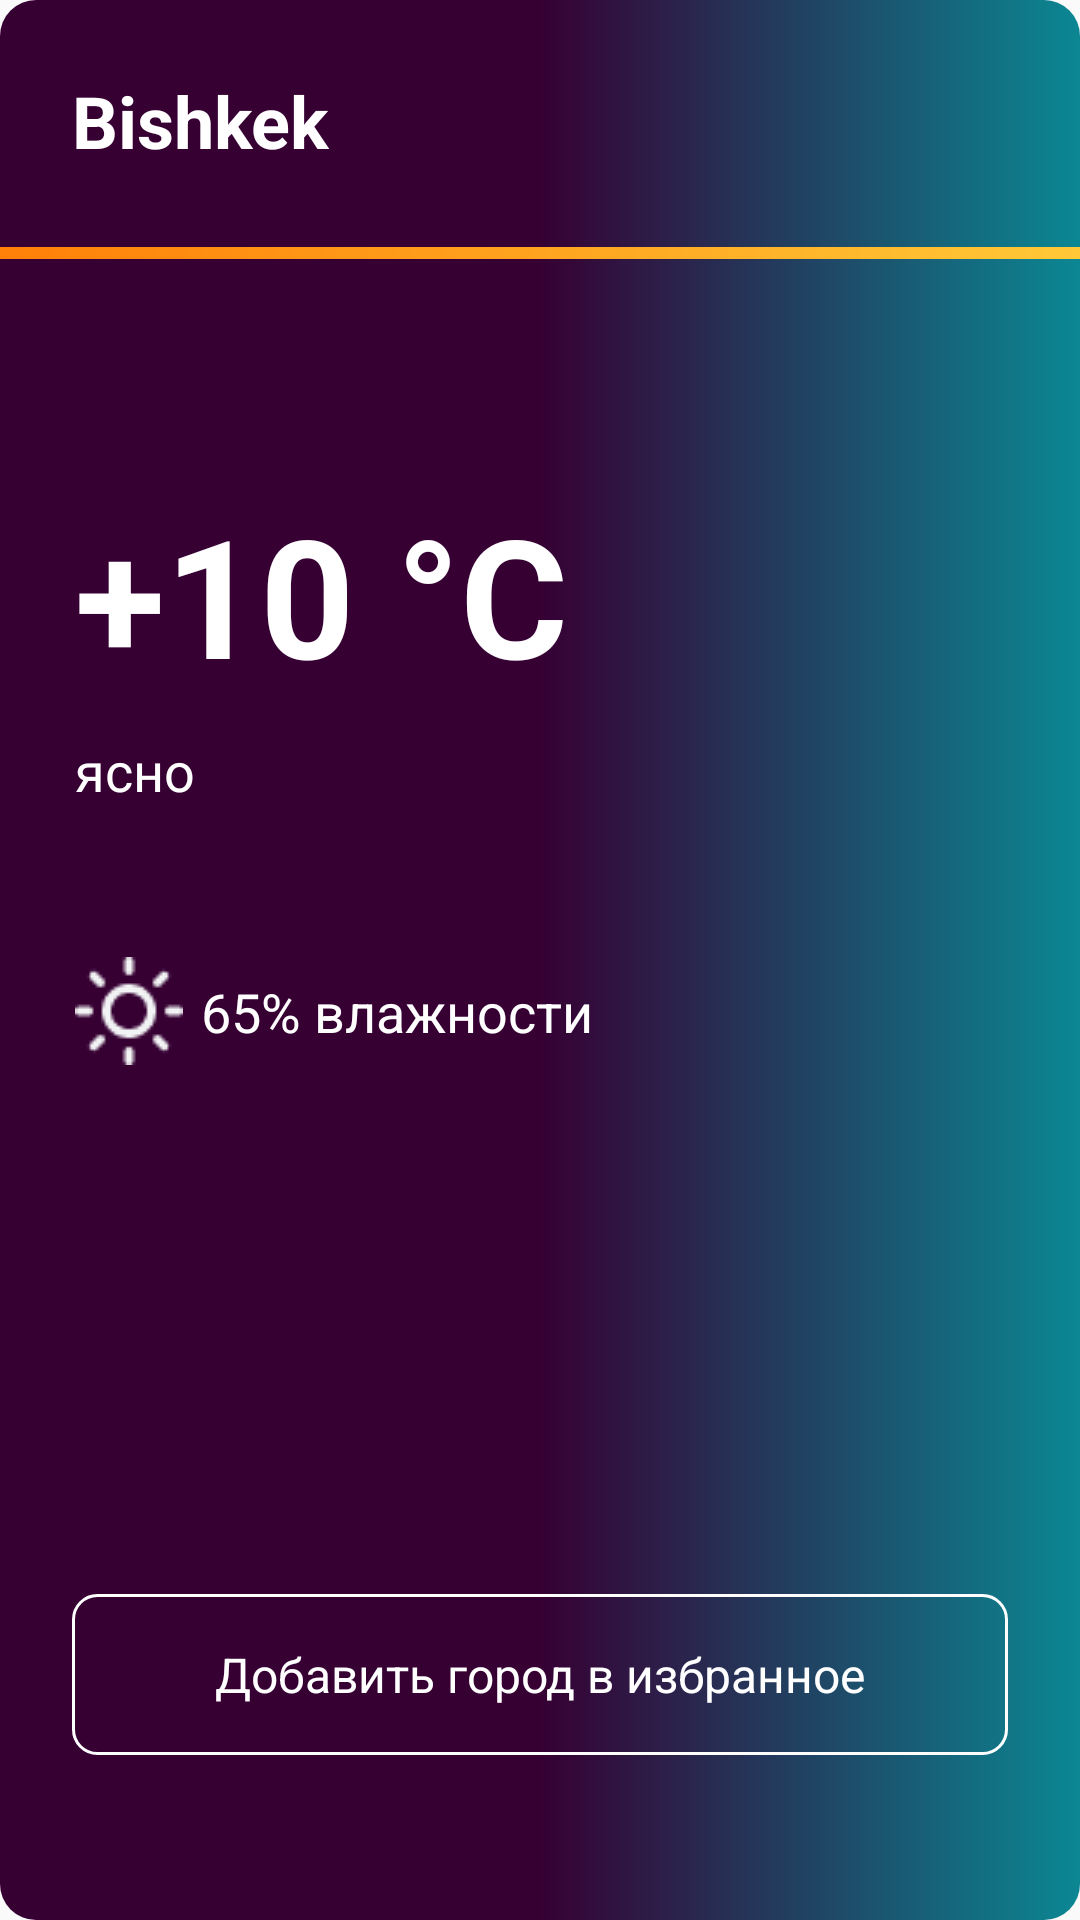

Icon click points for this 1080x1920 phone screenshot, format point (x, y):
sun: point (129, 1011)
